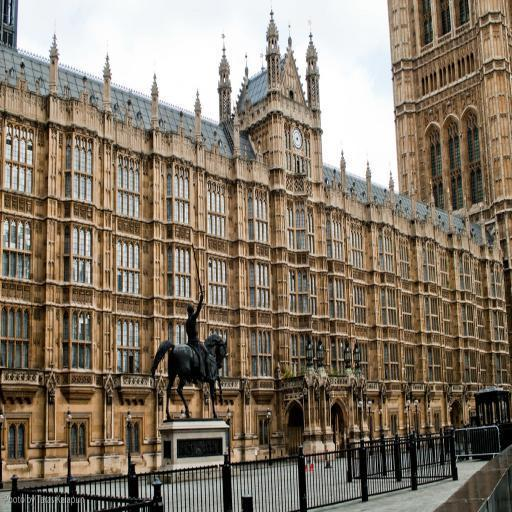horse: (148, 330, 228, 420)
